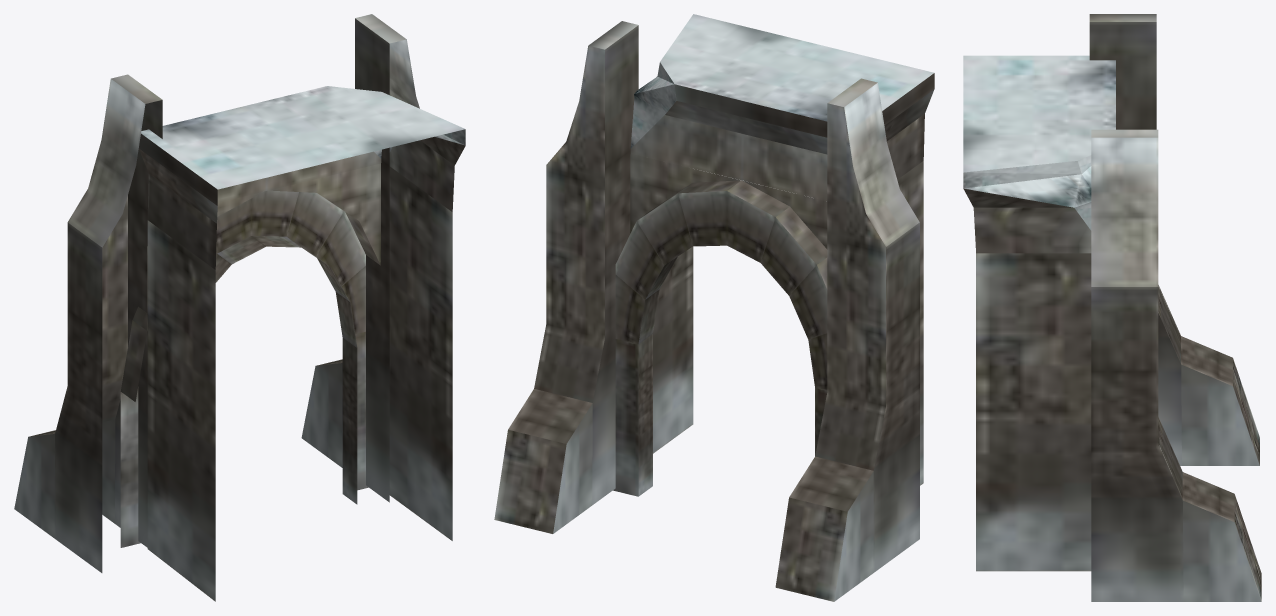
3 renders of one model, left to right at view 1: azimuth 30°, elevation 25°; view 2: azimuth 150°, elevation 25°; view 3: azimuth 270°, elevation 25°, orthographic. The views are drawn at different scales.
Parts seen in each view (by area): view 1: a87; view 2: a87; view 3: a87.
Boxes of the visible parts, <box> form: a87: <box>14,14,465,601</box>; a87: <box>494,14,934,601</box>; a87: <box>963,14,1261,601</box>.
Bounding box in the file's own units: 1023 × 1296 × 785.
